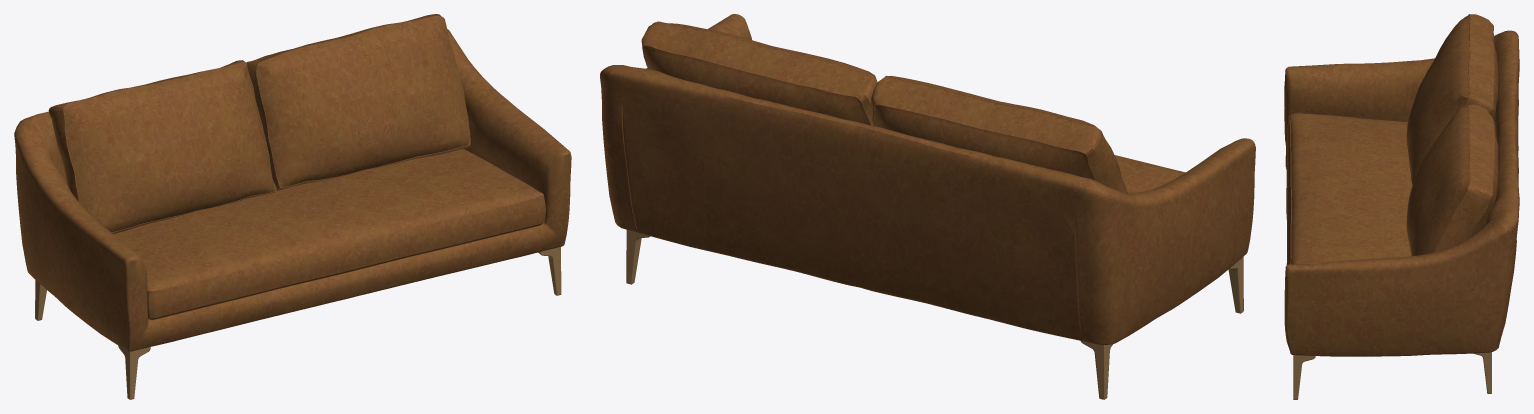
The model's file is B07J2JGT7Y.glb.
3 views of the same model, side by side, from view 1: azimuth 30°, elevation 25°; view 2: azimuth 150°, elevation 25°; view 3: azimuth 270°, elevation 25° (orthographic). The views are drawn at different scales.
Visible parts, largest first — view 1: RootNode; view 2: RootNode; view 3: RootNode.
Boxes of the visible parts, box(x1,y1,x2,y2) form: RootNode: box(14, 14, 571, 399); RootNode: box(600, 14, 1255, 399); RootNode: box(1284, 14, 1519, 399).
Bounding box in the file's own units: 2.04 × 0.9447 × 0.981.
1 material, 1 textured.
